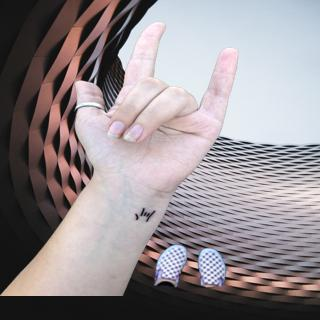ILY: (72, 20, 242, 196)
